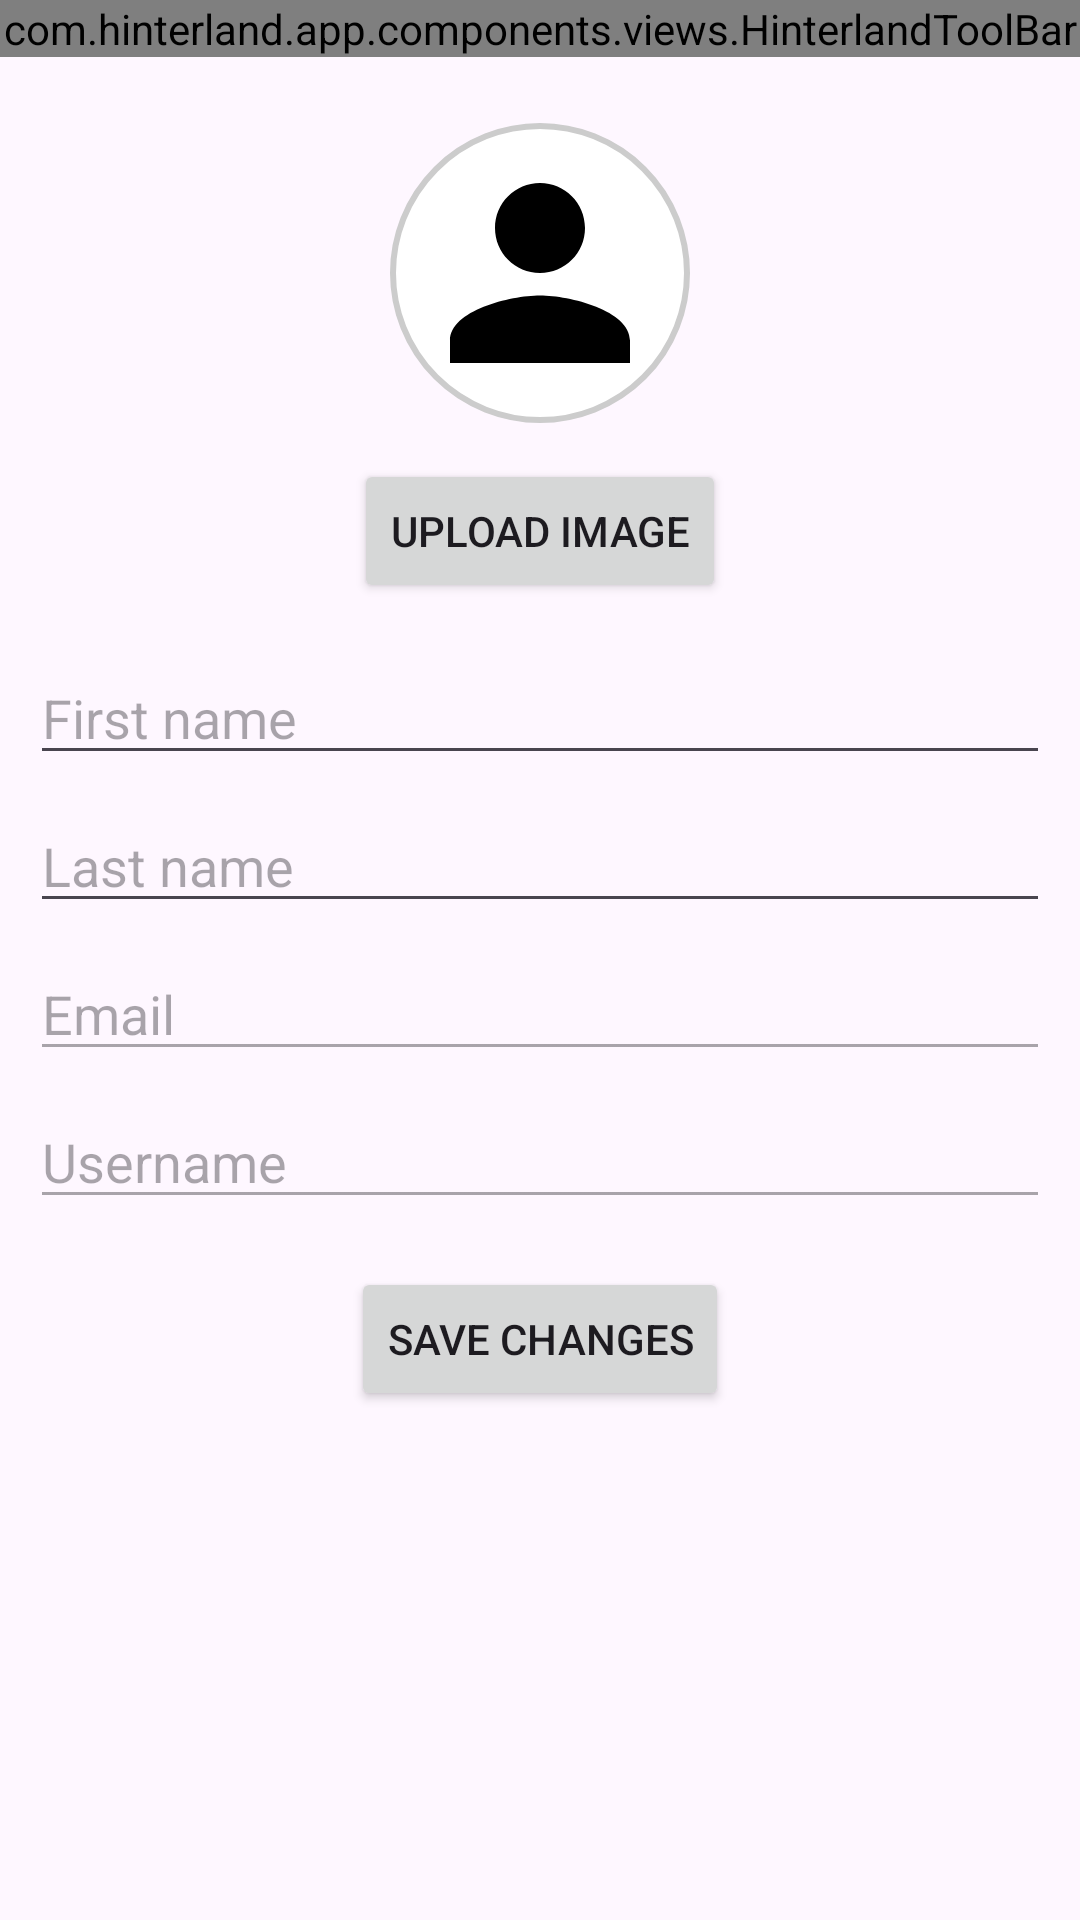

Screen size 1080 x 1920. Icon name, then its box in pixels as (x1, y1, x2, y2):
person: (390, 123, 690, 423)
